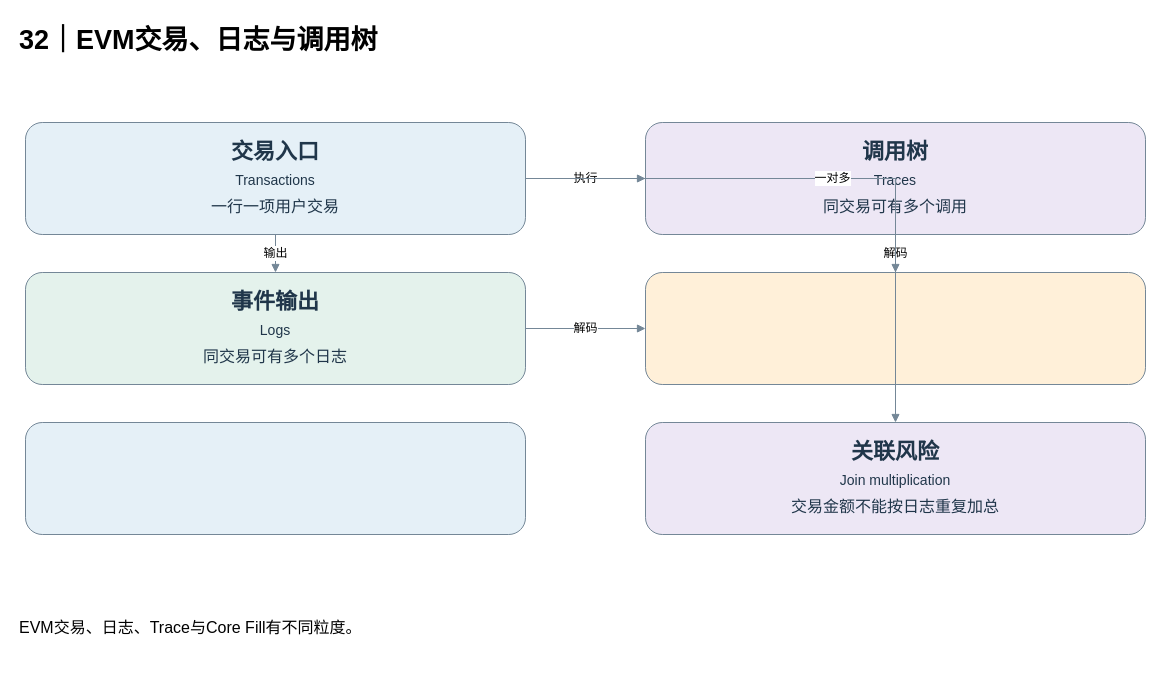
Image size: 1170x690. Some labels were removed from this diagram. Each missing label, with the box of its shape:
解码 Decoded data ABI与覆盖范围: (644, 272, 1146, 384)
金融原生记录 Core native data 不由EVM日志全覆盖: (24, 422, 526, 534)
